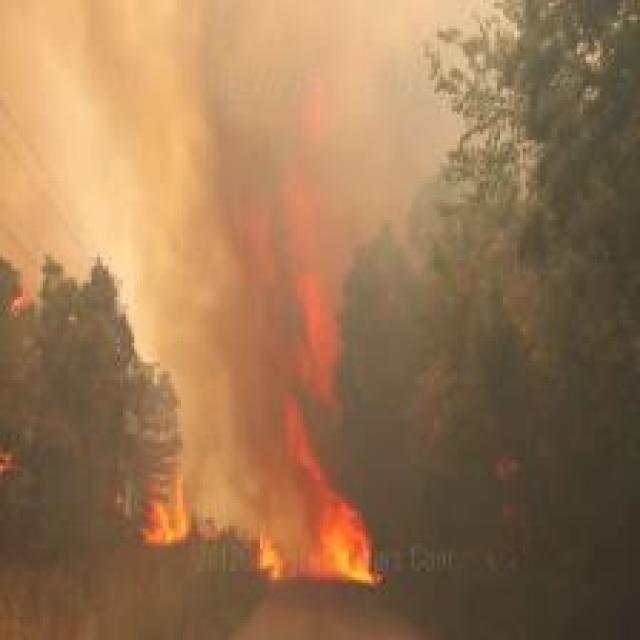Fire: (257, 161, 389, 588), (138, 472, 192, 544)
